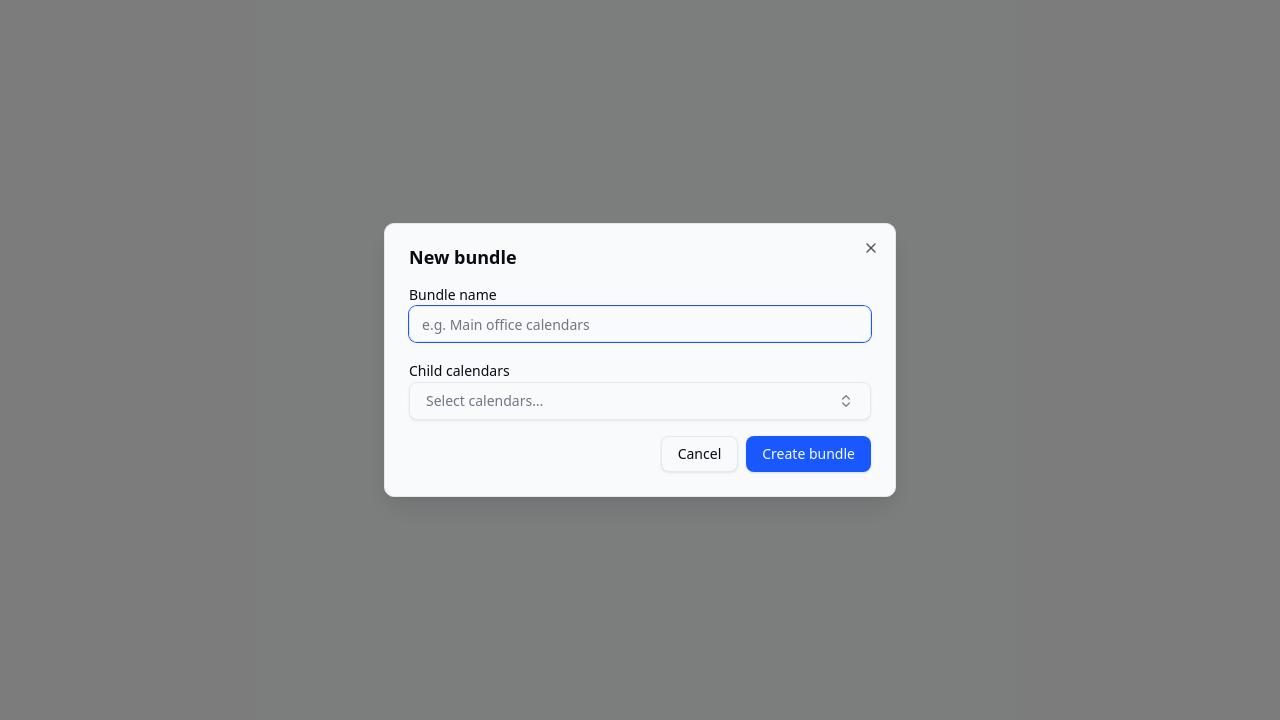
Test case: CreateBundleDialog › shows all calendars as options for child selection
Click the dropdown named "child calendars": (485, 400) [409,382,871,420]
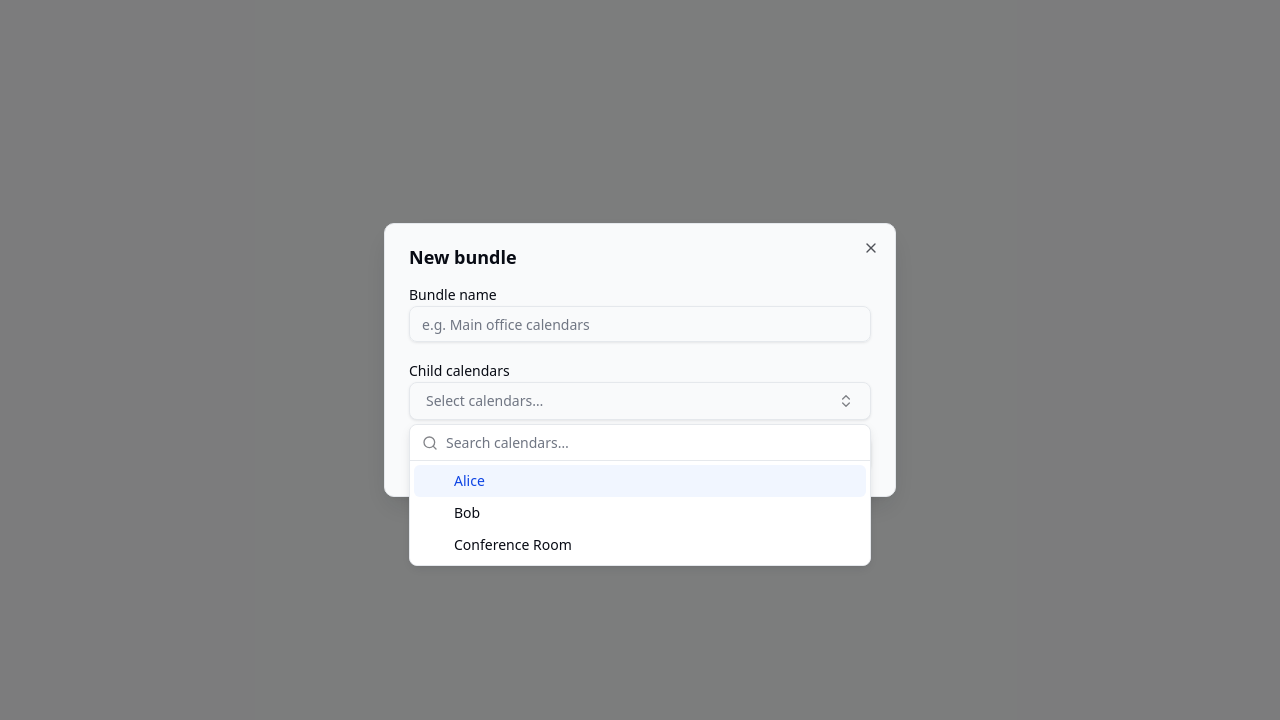
expect the option "Alice" is shown: met, box [414,465,866,497]
expect the option "Bob" is shown: met, box [454,503,480,522]
expect the option "Conference Room" is shown: met, box [454,535,572,554]
